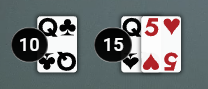5: (142, 15, 162, 39)
q: (121, 15, 143, 41), (37, 17, 61, 40)
